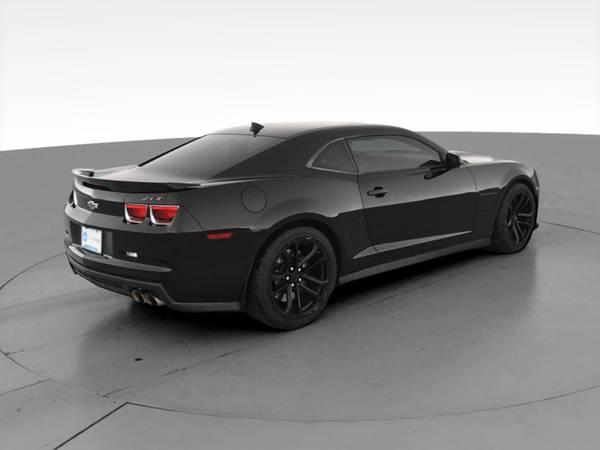Front_Fender: (466, 159, 538, 245)
Front_Right_Door: (357, 160, 478, 271)
Front_Right_Window: (344, 134, 459, 172)
Rear_Bumper: (63, 213, 254, 310)
Rear_Fender: (166, 136, 386, 283)
Rear_Windshield: (139, 133, 288, 180)
Right_Taillight: (121, 199, 183, 228)
Roof: (211, 118, 465, 179)
Tailgate: (63, 163, 197, 233)
Wheel: (250, 227, 337, 329), (497, 180, 538, 250)
